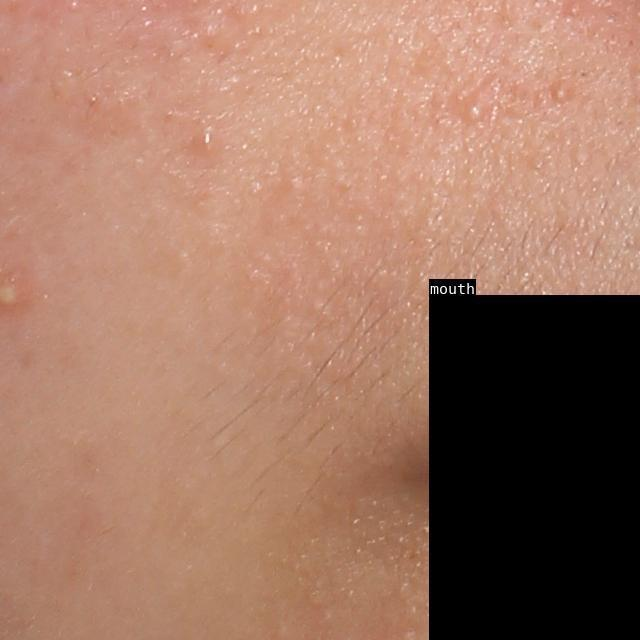comedo: (460, 89, 492, 124), (193, 125, 221, 158), (551, 81, 573, 104)
